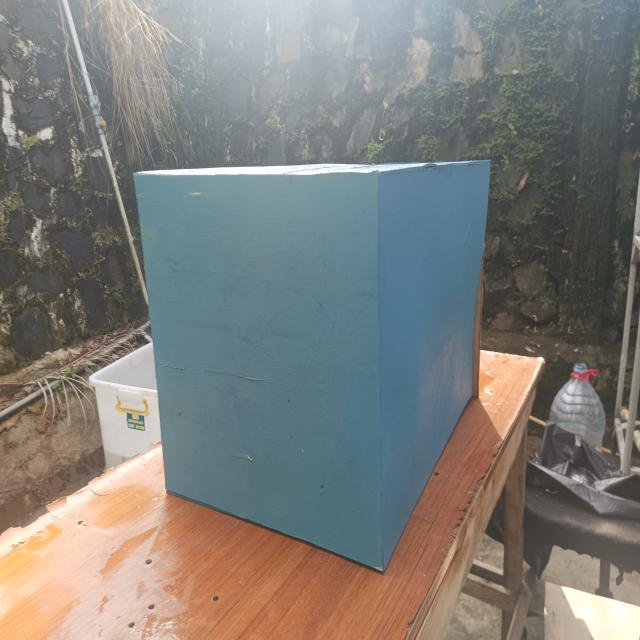blue_box: (117, 114, 513, 594)
